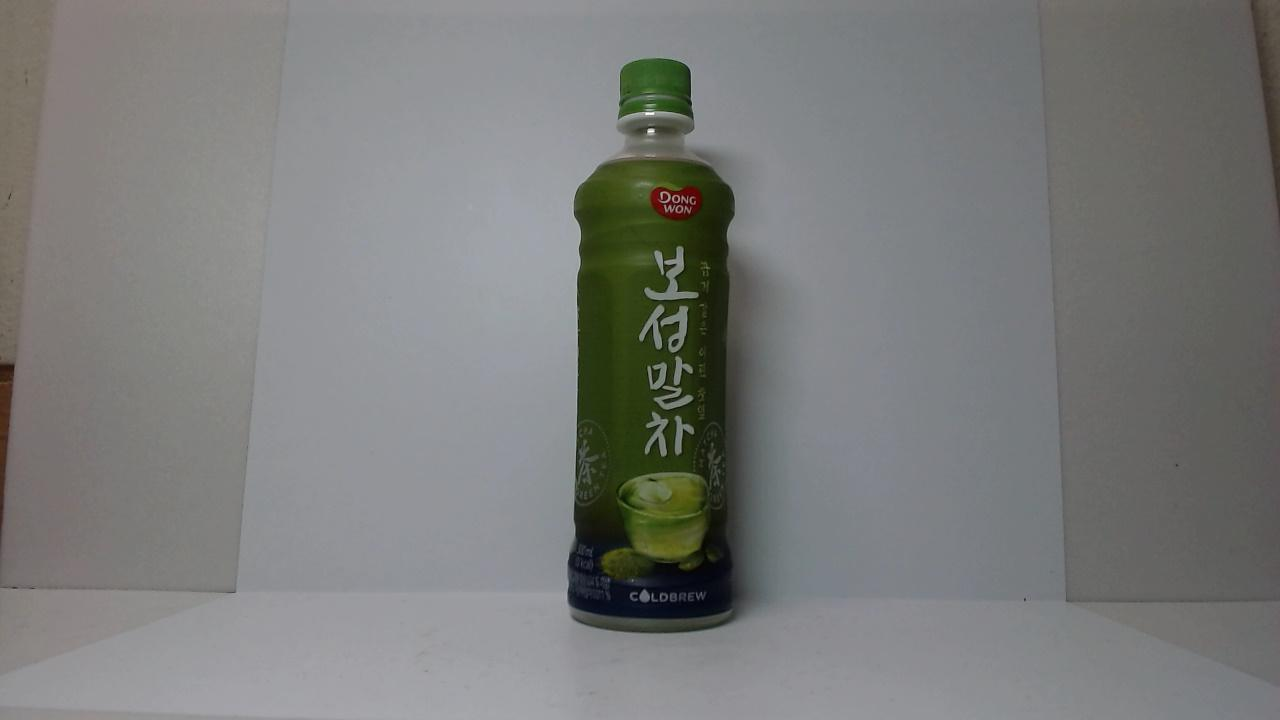bottle: (552, 43, 745, 648)
